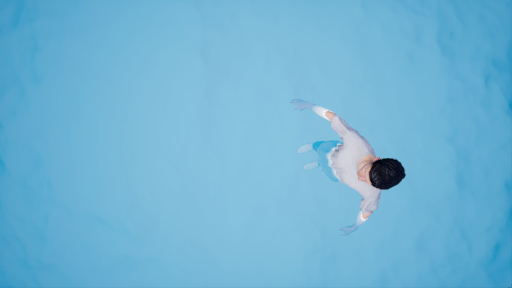person: (293, 93, 404, 238)
